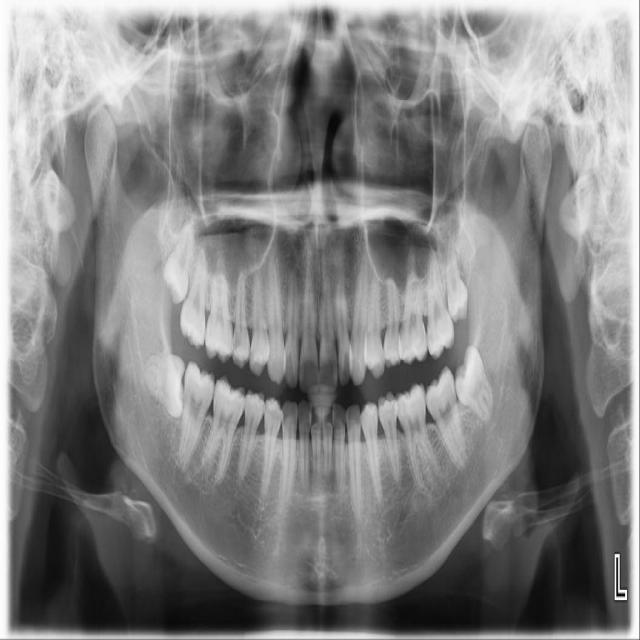3M ESPE Implant: (159, 221, 197, 305)
73: (599, 560, 611, 584)
BioHorizons Implant: (425, 256, 454, 360)
BioLife Implant: (442, 237, 471, 324)
Biomet 3i Implant: (442, 343, 503, 430)
Blue Sky Bio Implant: (419, 365, 470, 473)
Caries: (179, 249, 207, 351)
Implant: (177, 361, 217, 471)
Keystone Dental Implant: (144, 353, 185, 417)
